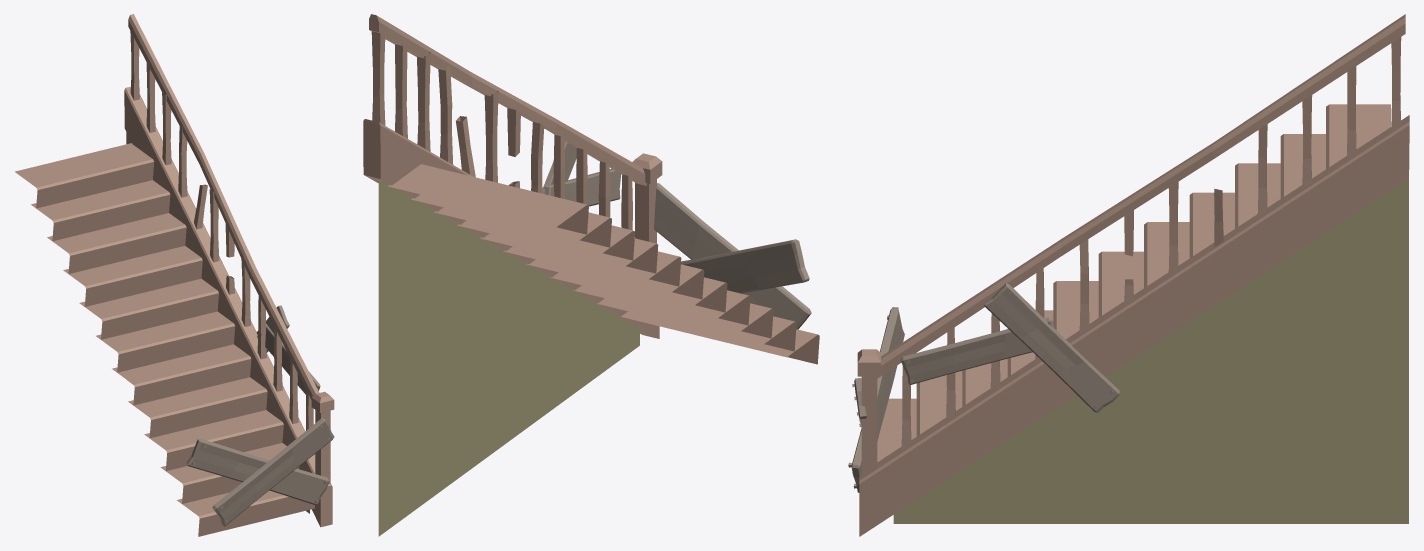
The model's file is Stairs.fbx.
3 renders of one model, left to right at view 1: azimuth 30°, elevation 25°; view 2: azimuth 150°, elevation 25°; view 3: azimuth 270°, elevation 25°, orthographic. The views are drawn at different scales.
Parts seen in each view (by area): view 1: Stairs; view 2: Stairs; view 3: Stairs.
Boxes of the visible parts, box(x1,y1,x2,y2) form: Stairs: box(15, 14, 334, 536); Stairs: box(363, 14, 819, 536); Stairs: box(848, 14, 1409, 536).
Bounding box in the file's own units: 310 × 803 × 789.
